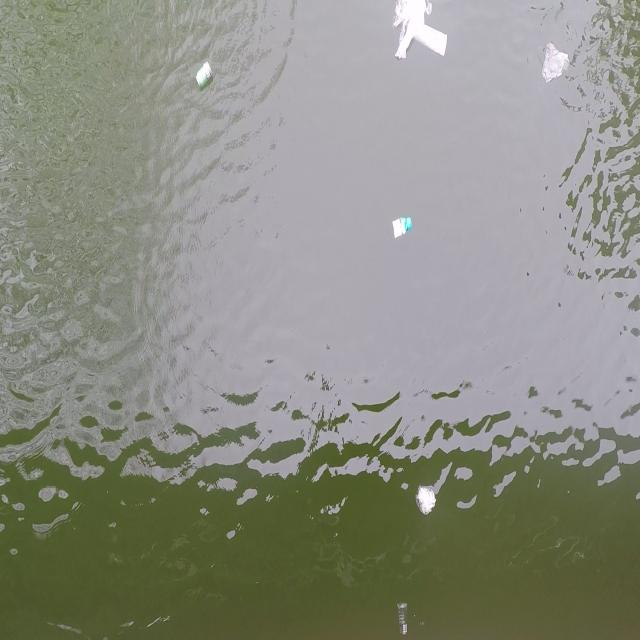Non plastique: (193, 58, 215, 95)
Sac plastique: (390, 0, 431, 62), (538, 37, 574, 88), (412, 482, 440, 521)
